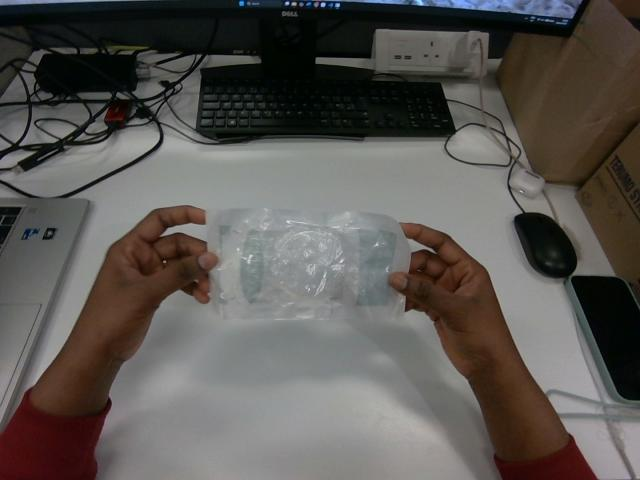gallipot: (207, 209, 410, 320)
